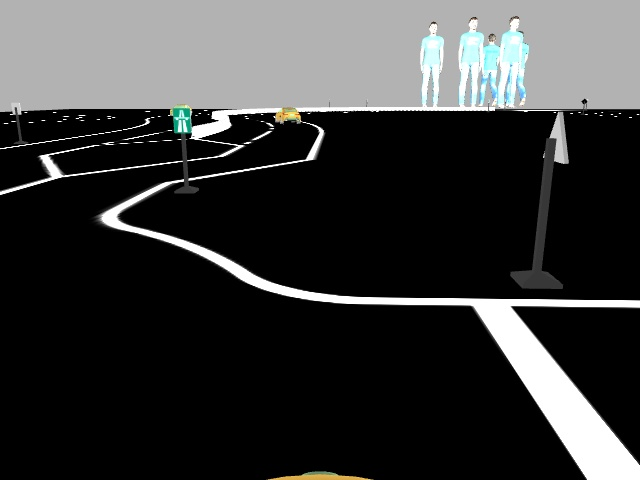HighwayEntrance: (168, 105, 194, 134)
